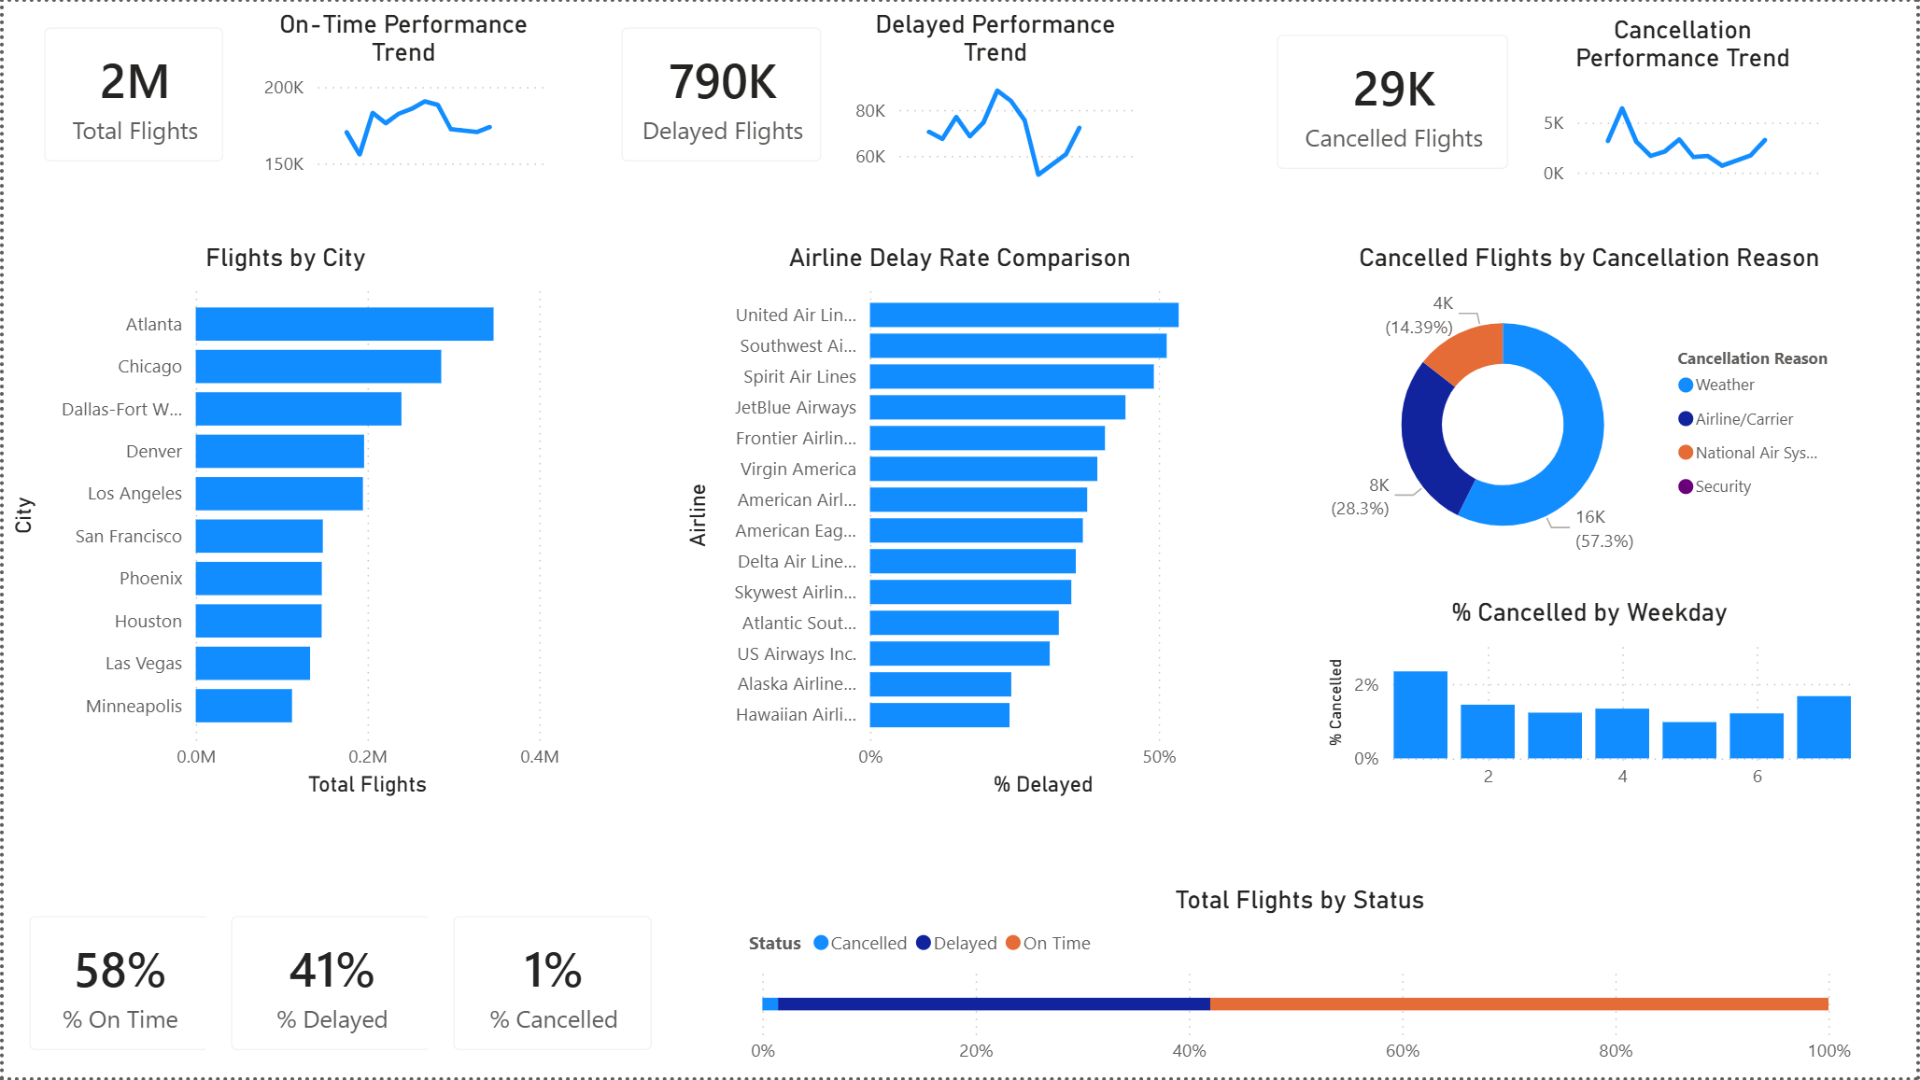

The dashboard page shown, as its layout file describes it:
{"tool":"powerbi","page":{"name":"Page 1","canvas":[1280,720],"ordinal":0},"visuals":[{"type":"cardVisual","fields":{"Data":["flights.Total Flights"]},"box":[9.7,0,154.7,124.5],"z":0},{"type":"lineChart","title":"On-Time Performance Trend","fields":{"Category":["flights.MONTH"],"Y":["flights.Total Flights"]},"box":[168.9,0,197.8,124.4],"z":1000},{"type":"cardVisual","fields":{"Data":["flights.Delayed Flights"]},"box":[396.8,0,168.3,124.5],"z":2000},{"type":"lineChart","title":"Delayed Performance Trend","fields":{"Category":["flights.MONTH"],"Y":["flights.Delayed Flights"]},"box":[565.1,0,197.4,124.5],"z":3000},{"type":"cardVisual","fields":{"Data":["flights.Cancelled Flights"]},"box":[835.5,4.9,189.7,124.5],"z":4000},{"type":"lineChart","title":"Cancellation Performance Trend","fields":{"Category":["flights.MONTH"],"Y":["flights.Cancelled Flights"]},"box":[1024.5,4.2,197.4,124.5],"z":5000},{"type":"cardVisual","fields":{"Data":["flights.% On Time"]},"box":[0,595.6,154.4,124.4],"z":6000},{"type":"cardVisual","fields":{"Data":["flights.% Delayed"]},"box":[134.4,595.6,168.9,124.4],"z":7000},{"type":"cardVisual","fields":{"Data":["flights.% Cancelled"]},"box":[283.3,595.6,167.8,124.4],"z":8000},{"type":"clusteredBarChart","title":"Flights by City","fields":{"Y":["flights.Total Flights"],"Category":["airports.CITY"]},"box":[0,161.5,377.4,375.4],"z":9000},{"type":"clusteredBarChart","title":"Airline Delay Rate Comparison","fields":{"Y":["flights.% Delayed"],"Category":["airlines.AIRLINE"]},"box":[451.3,161.5,377.4,375.4],"z":10000},{"type":"donutChart","title":"Cancelled Flights by Cancellation Reason","fields":{"Category":["cancellation_codes.CANCELLATION_DESCRIPTION"],"Y":["flights.Cancelled Flights"]},"box":[881.1,161.1,360,224.4],"z":11000},{"type":"clusteredColumnChart","title":"% Cancelled by Weekday","fields":{"Category":["flights.DAY_OF_WEEK"],"Y":["flights.% Cancelled"]},"box":[881.1,398.9,360,137.8],"z":12000},{"type":"hundredPercentStackedBarChart","fields":{"Series":["flights.Status"],"Y":["flights.Total Flights"]},"box":[493.6,590.8,747.5,129],"z":13000}]}

Visuals, with their boxes in screenshot pixels (x1, y1, x2, y2), scaled from the page's 1280x720 canvas onto the 1920x1080 screenshot:
cardVisual - flights.Total Flights: BBox(15, 0, 247, 187)
"On-Time Performance Trend" lineChart: BBox(253, 0, 550, 187)
cardVisual - flights.Delayed Flights: BBox(595, 0, 848, 187)
"Delayed Performance Trend" lineChart: BBox(848, 0, 1144, 187)
cardVisual - flights.Cancelled Flights: BBox(1253, 7, 1538, 194)
"Cancellation Performance Trend" lineChart: BBox(1537, 6, 1833, 193)
cardVisual - flights.% On Time: BBox(0, 893, 232, 1079)
cardVisual - flights.% Delayed: BBox(202, 893, 455, 1079)
cardVisual - flights.% Cancelled: BBox(425, 893, 677, 1079)
"Flights by City" clusteredBarChart: BBox(0, 242, 566, 805)
"Airline Delay Rate Comparison" clusteredBarChart: BBox(677, 242, 1243, 805)
"Cancelled Flights by Cancellation Reason" donutChart: BBox(1322, 242, 1862, 578)
"% Cancelled by Weekday" clusteredColumnChart: BBox(1322, 598, 1862, 805)
hundredPercentStackedBarChart - flights.Status x flights.Total Flights: BBox(740, 886, 1862, 1079)
